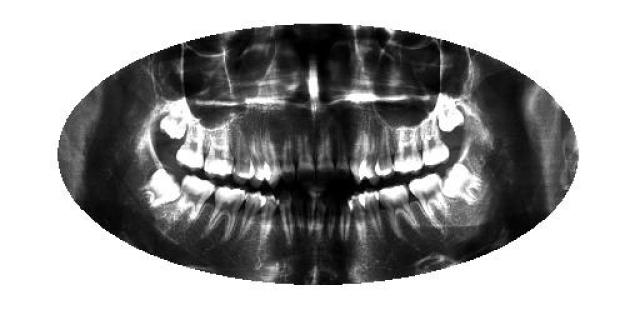Restorations: (440, 162, 484, 206), (136, 168, 182, 210)
